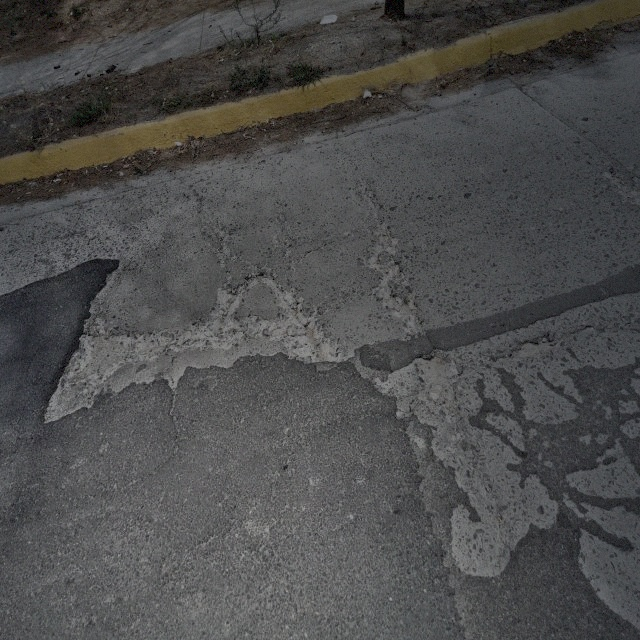pothole: (42, 258, 336, 429), (380, 349, 517, 588), (367, 216, 419, 329), (512, 338, 554, 360)
